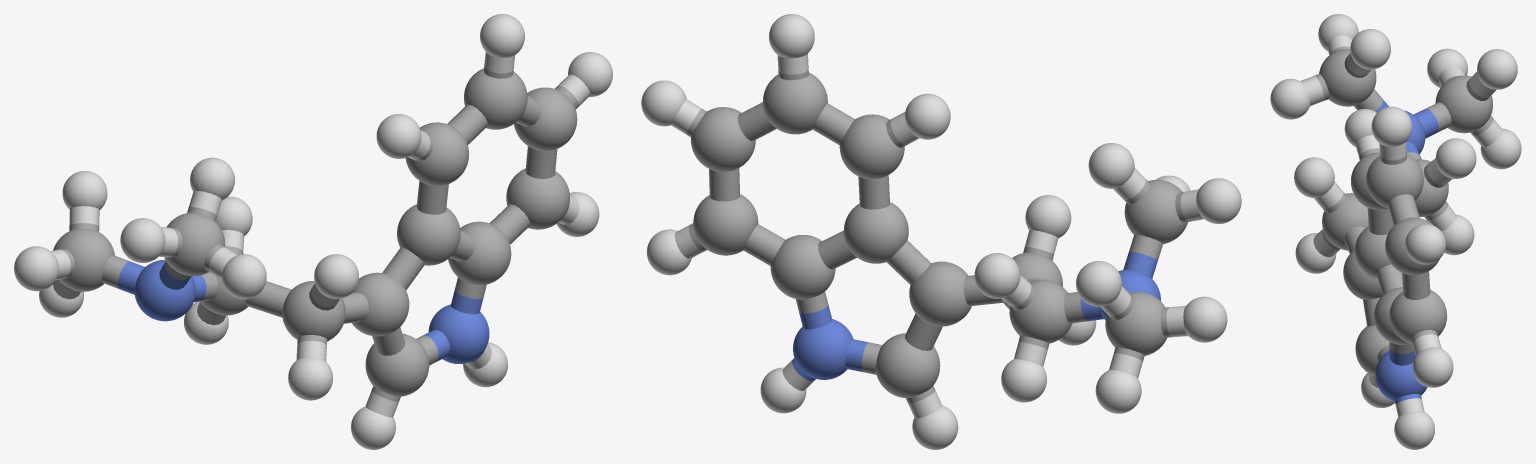
The picture shows the model from 3 angles, left to right: view 1: azimuth 30°, elevation 25°; view 2: azimuth 150°, elevation 25°; view 3: azimuth 270°, elevation 25°; orthographic projection. The views are drawn at different scales.
Visible parts, largest first — view 1: atoms, bonds; view 2: atoms, bonds; view 3: atoms, bonds.
Part boxes in pixels (<box>): atoms: <box>14,14,612,449</box>; bonds: <box>51,52,590,417</box>; atoms: <box>641,14,1241,449</box>; bonds: <box>671,53,1203,418</box>; atoms: <box>1270,14,1521,449</box>; bonds: <box>1300,35,1502,417</box>.
Bounding box in the file's own units: 3.17 × 2.06 × 1.31.
